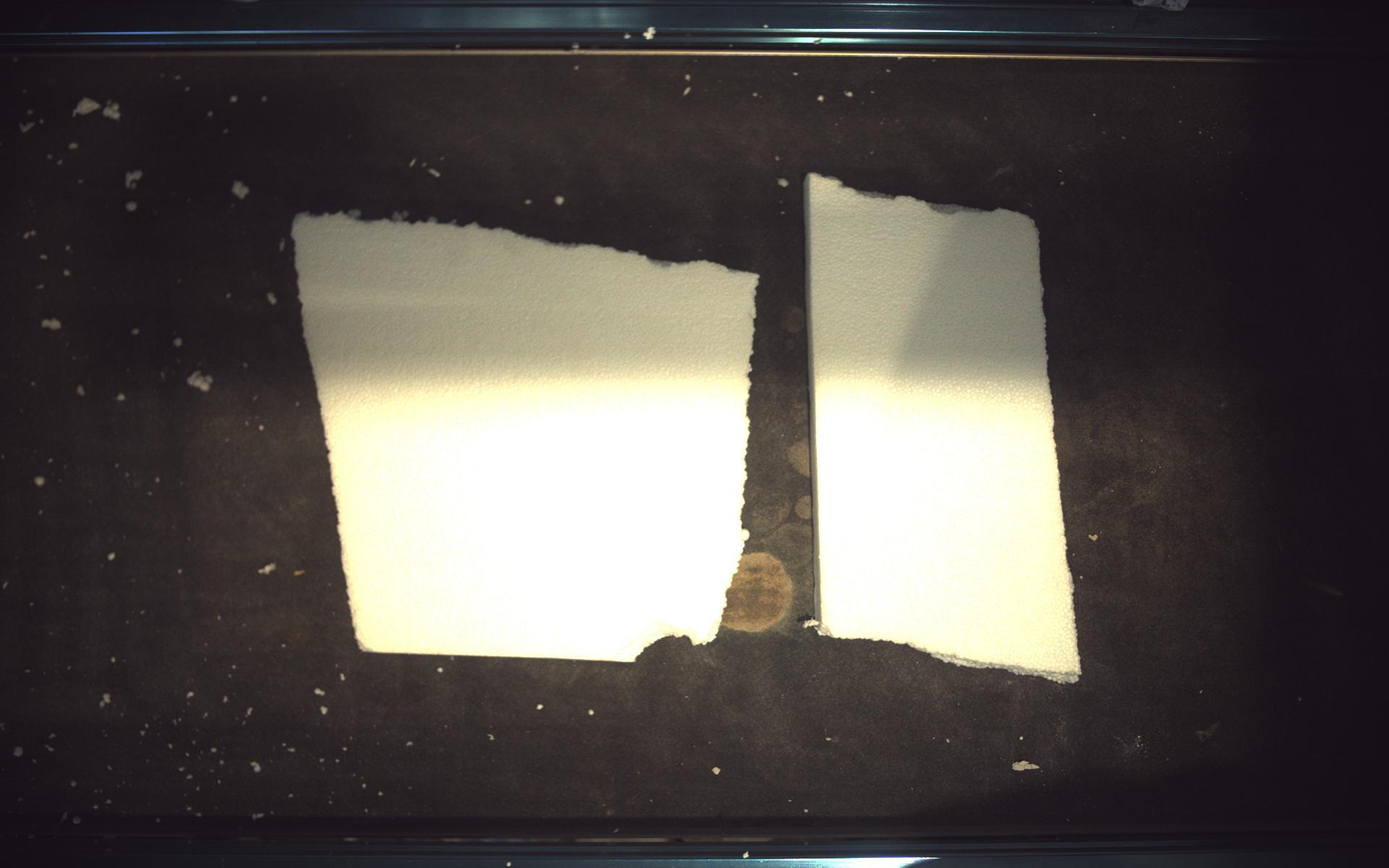foam: (292, 213, 758, 663), (808, 174, 1083, 683)
